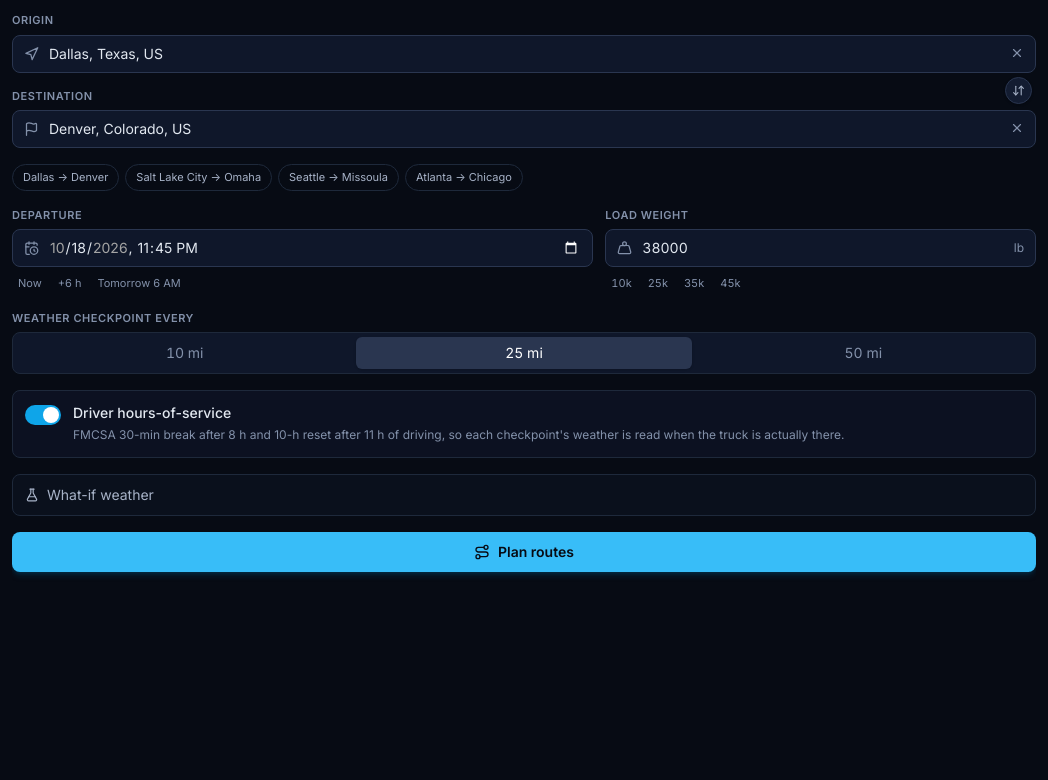
Test: TripForm › shows validation errors and does not submit
Step 1. Replace the text in the number field labelled "Load weight" with "99999" → (821, 248), box x1=605 y1=229 x2=1036 y2=267
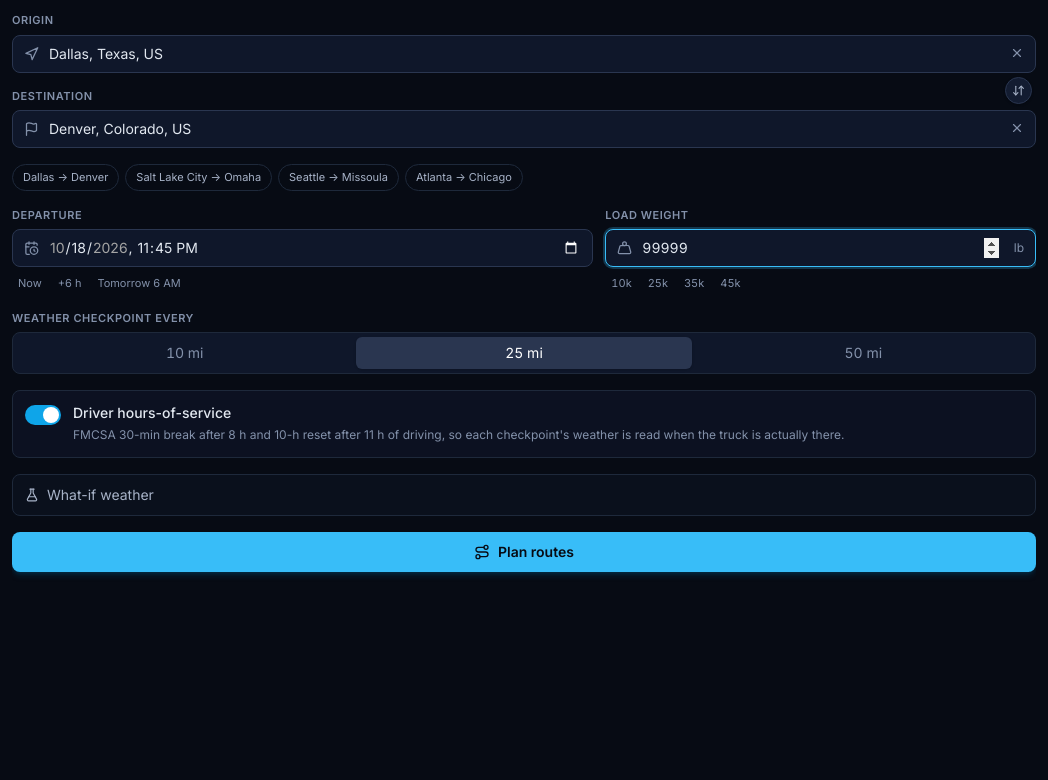
Step 2. Click the button "Plan routes" → (524, 552), box x1=12 y1=532 x2=1036 y2=572
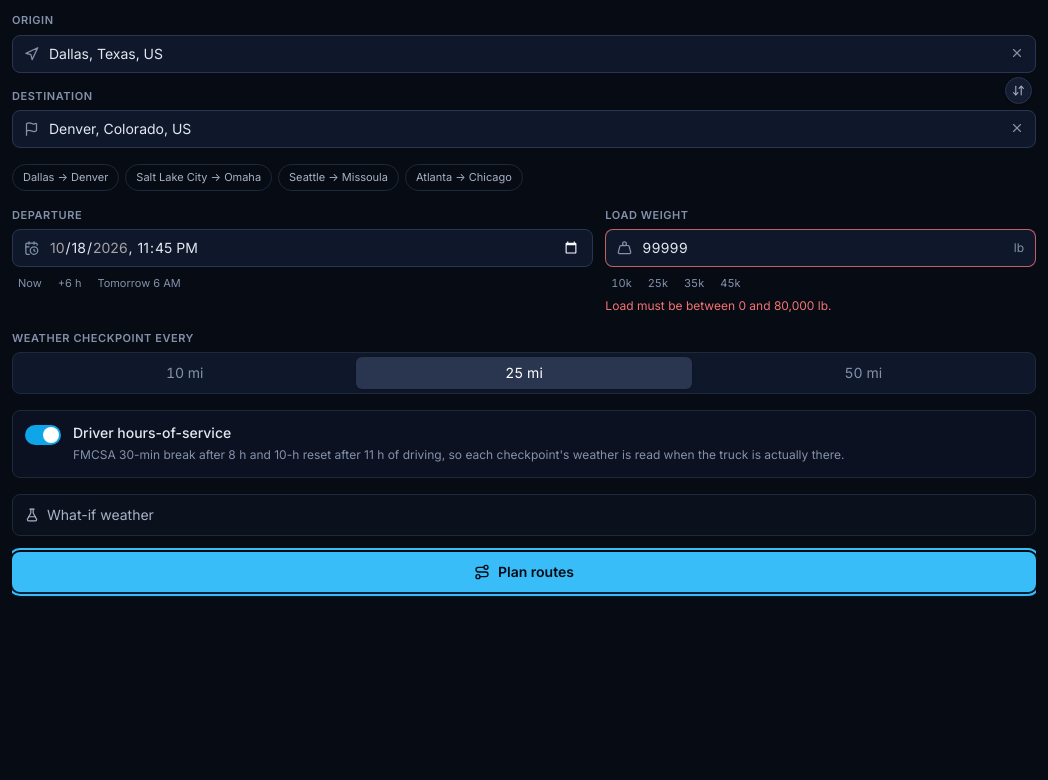
Expected: the text "Load must be between 0 and 80,000 lb." is shown, x1=605 y1=298 x2=832 y2=312
